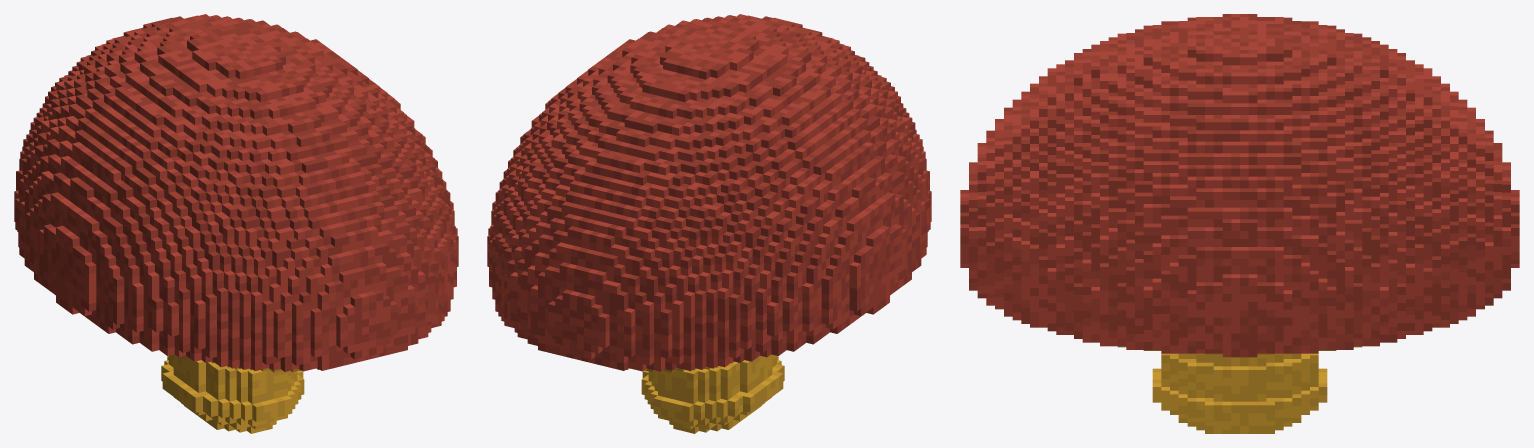
Rendered from Loyo-adult.obj.
The picture shows the model from 3 angles, left to right: view 1: azimuth 30°, elevation 25°; view 2: azimuth 150°, elevation 25°; view 3: azimuth 270°, elevation 25°; orthographic projection. The views are drawn at different scales.
Bounding box in the file's own units: 4.8 × 4.8 × 6.4.
1 material, 1 textured.
